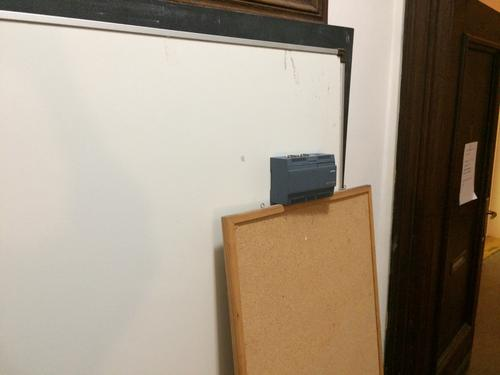iot2000: (268, 152, 338, 206)
